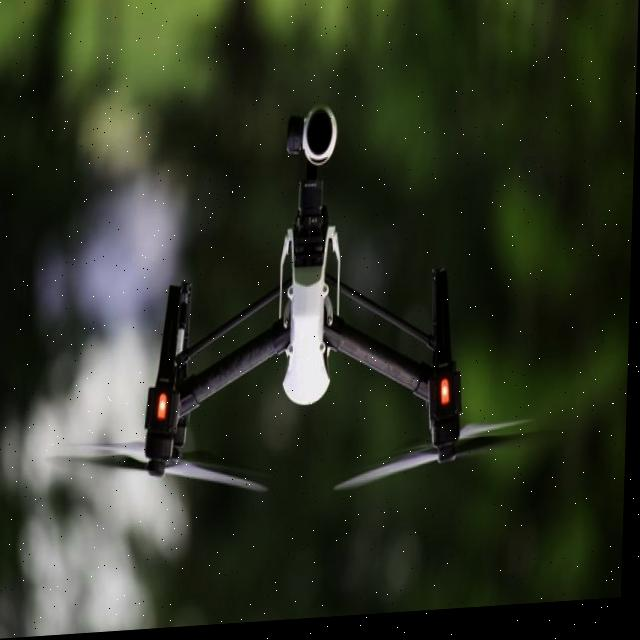drone: (83, 237, 547, 532)
